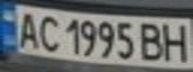1: (60, 16, 81, 55)
5: (115, 19, 139, 61)
9: (97, 18, 118, 60), (78, 16, 100, 56)
A: (12, 8, 42, 50)
B: (136, 19, 169, 62)
C: (33, 12, 63, 52)
H: (157, 20, 193, 63)
